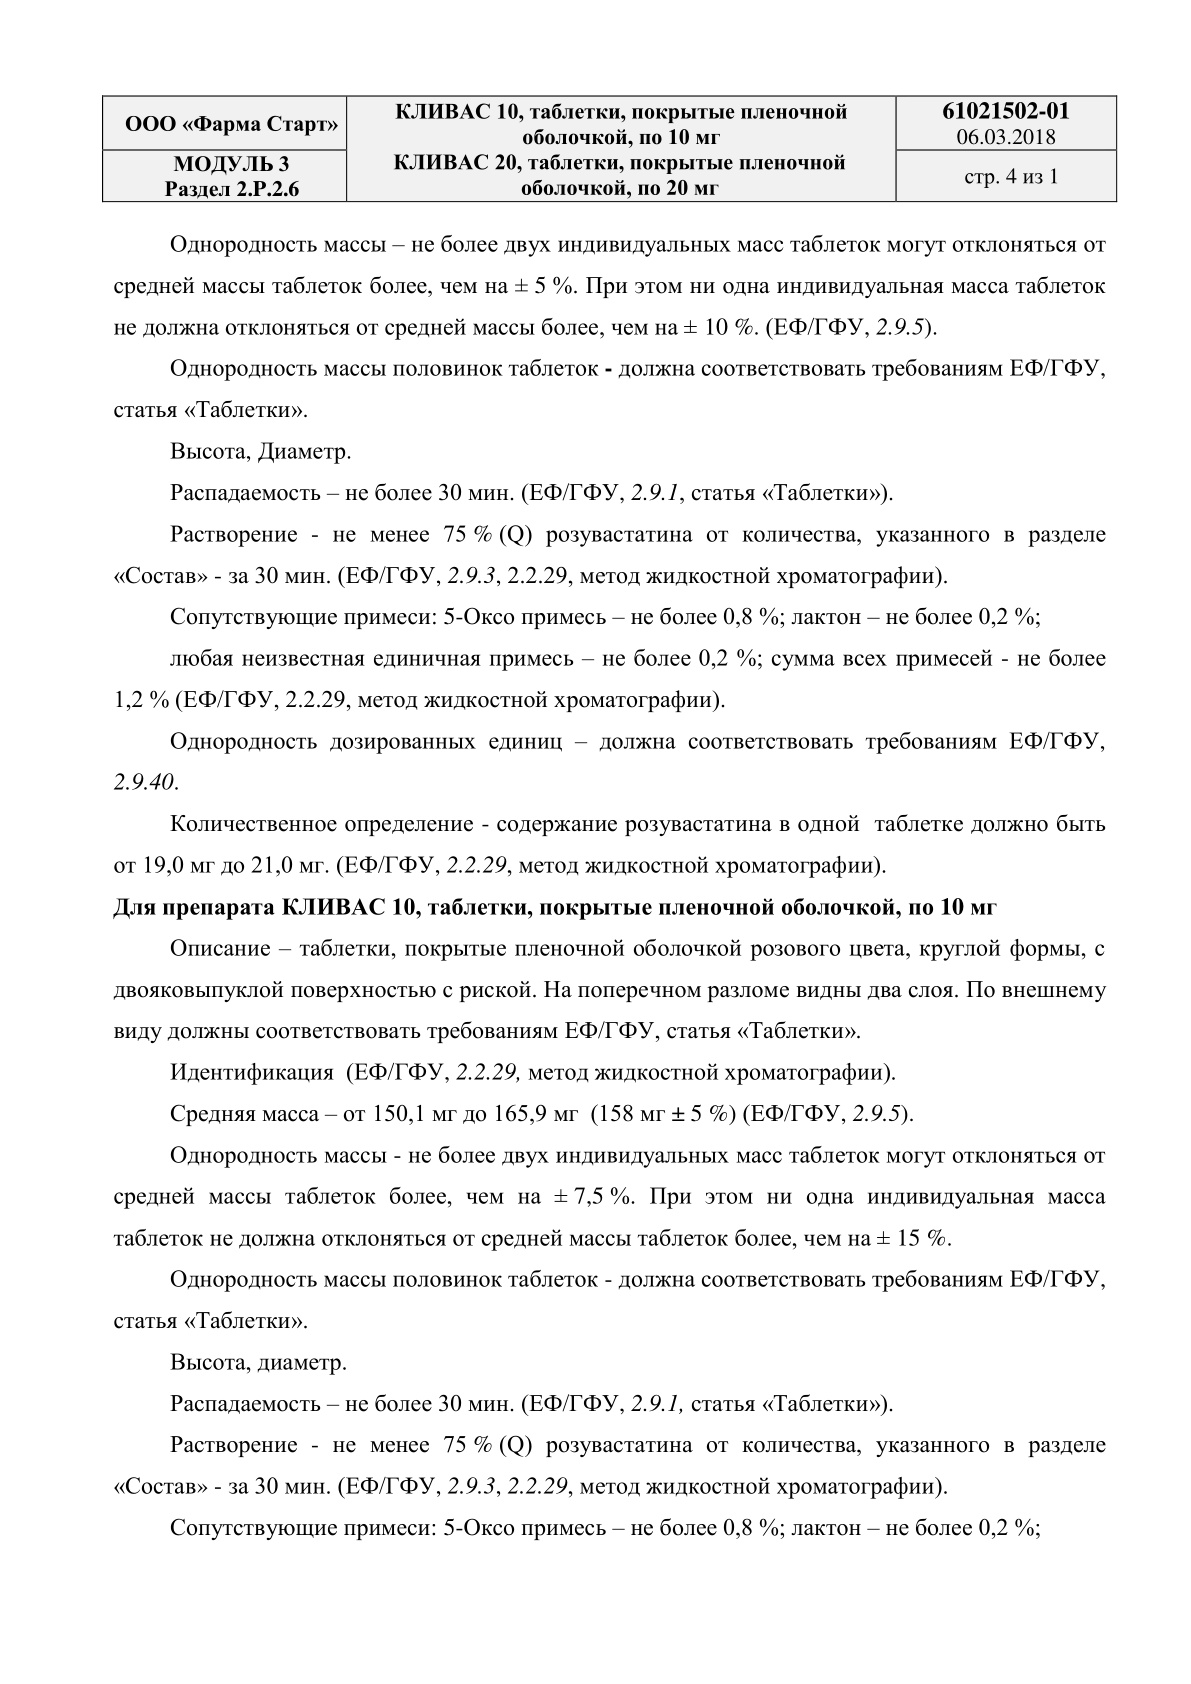merged_cells: (101, 95, 1118, 204)
